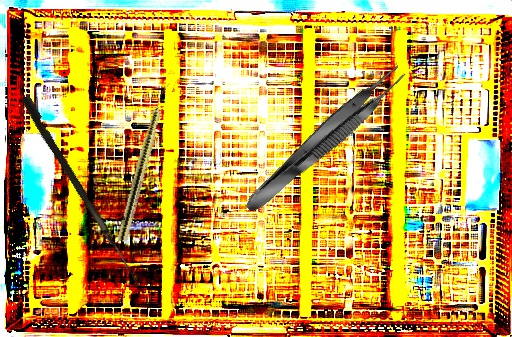Handpiece: (116, 79, 172, 244)
Hook Surgical: (17, 94, 149, 287)
Tissue Forceps: (237, 58, 412, 220)
